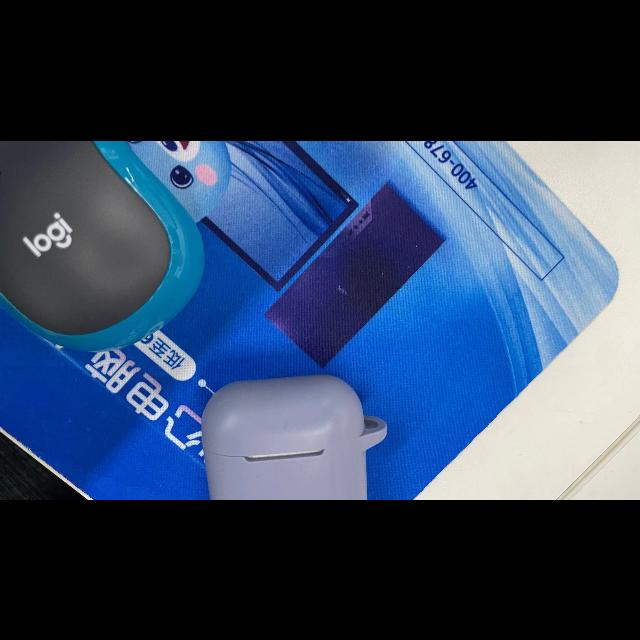airpods: (202, 373, 387, 500)
